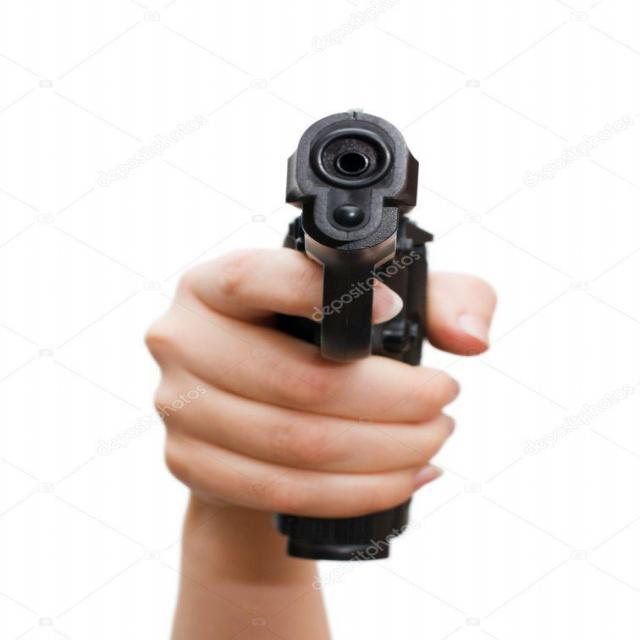Handgun: (232, 104, 442, 570)
